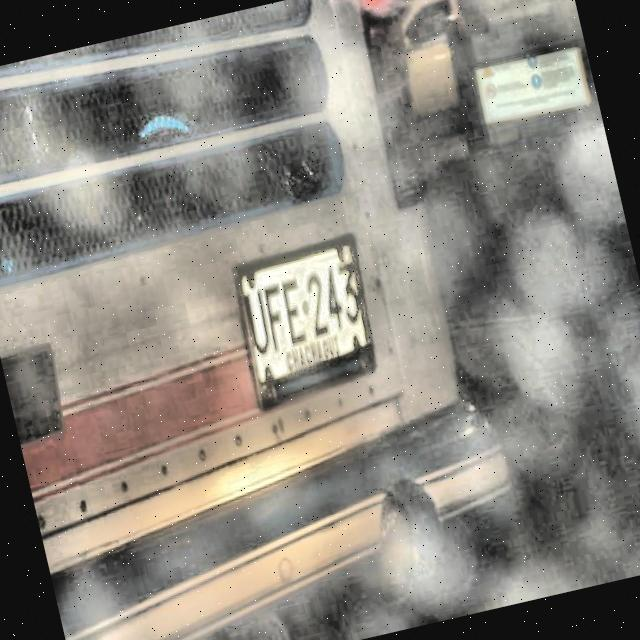2: (302, 269, 334, 340)
3: (335, 259, 364, 330)
4: (320, 264, 349, 335)
E: (279, 276, 308, 347)
F: (262, 282, 291, 354)
U: (242, 289, 274, 357)
